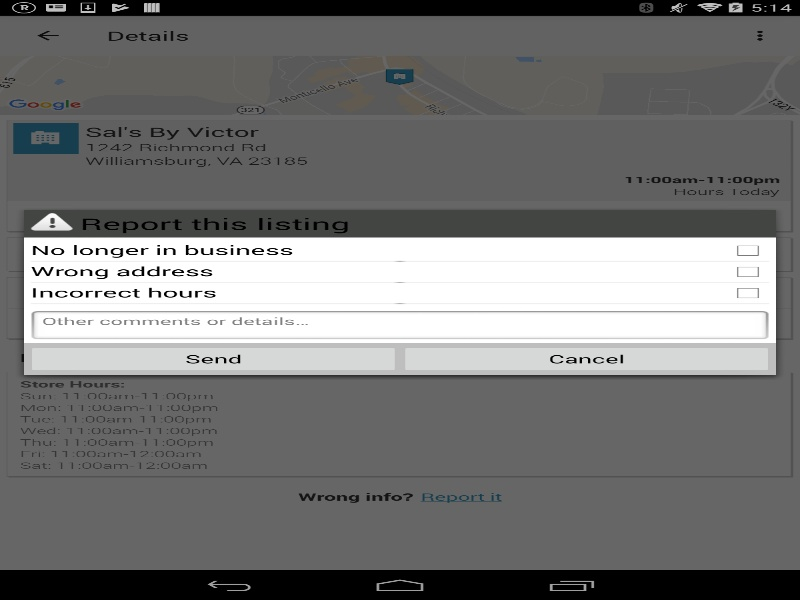Button: (26, 344, 400, 374), (400, 344, 773, 374)
Input: (30, 310, 769, 339)
